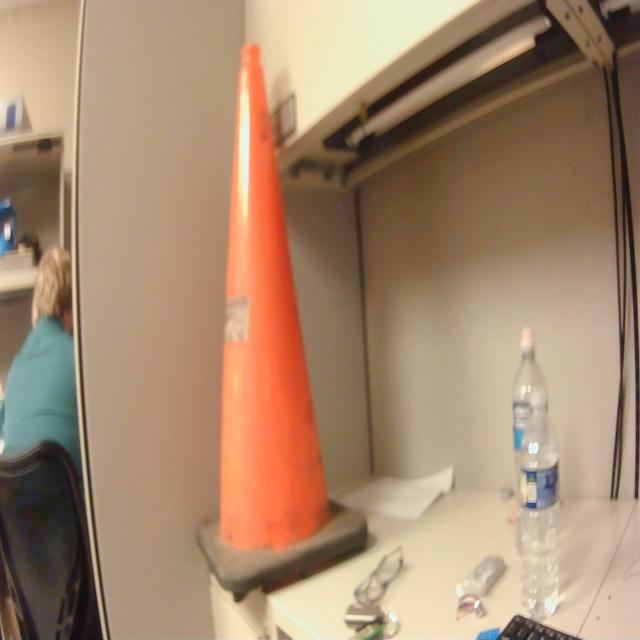traffic cone: (193, 37, 374, 615)
